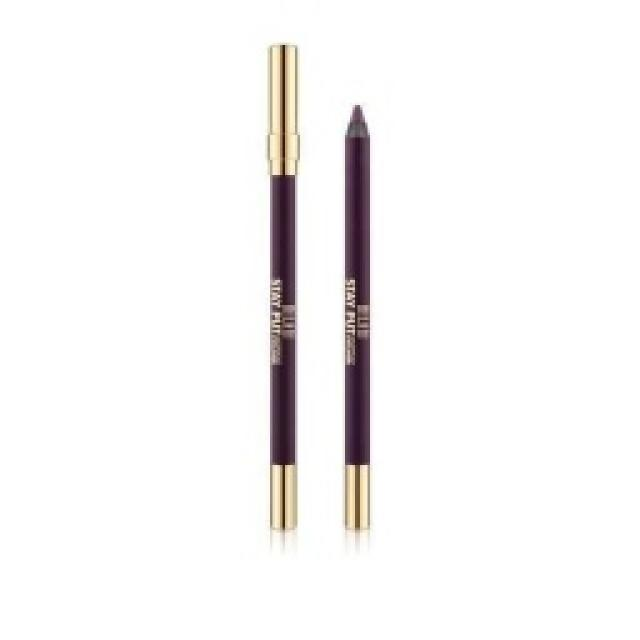pencil: (262, 40, 300, 532), (338, 100, 372, 532)
